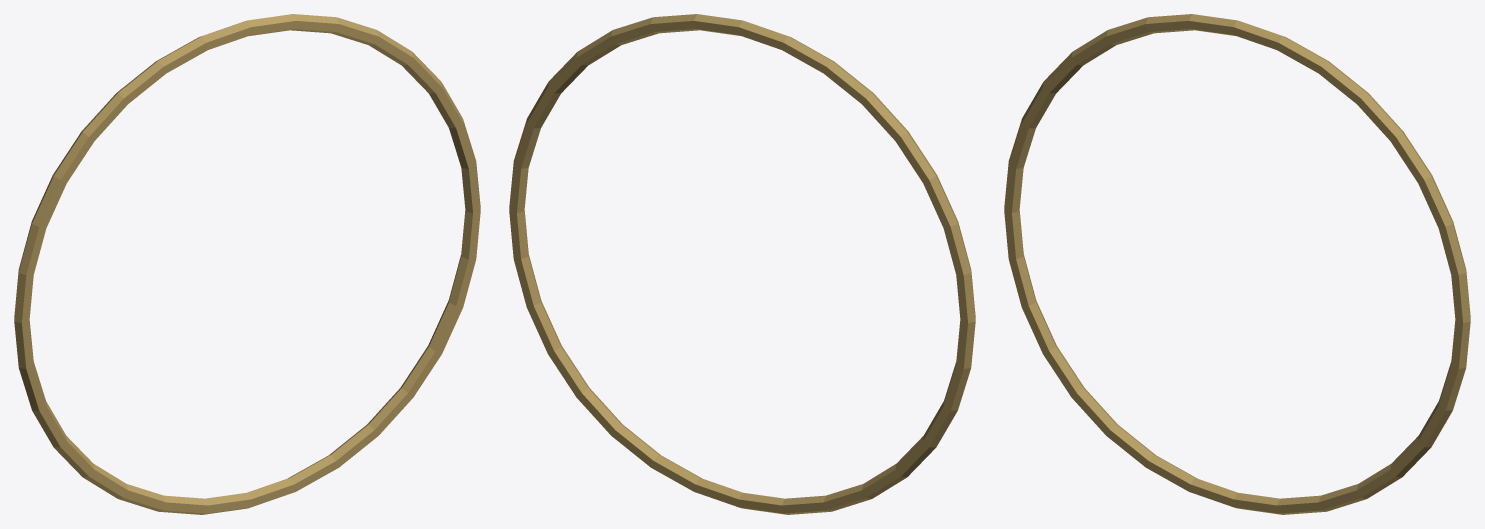
Rendered from sky_ring.glb.
3 renders of one model, left to right at view 1: azimuth 30°, elevation 25°; view 2: azimuth 150°, elevation 25°; view 3: azimuth 330°, elevation 25°, orthographic.
Visible parts, largest first — view 1: sky_ring; view 2: sky_ring; view 3: sky_ring.
Part boxes in pixels (x1,y1,x2,y2): sky_ring: [14, 14, 480, 514]; sky_ring: [509, 14, 975, 514]; sky_ring: [1004, 14, 1470, 514].
Bounding box in the file's own units: 16.54 × 16.54 × 0.4677.
